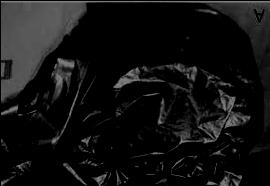Plastic: (1, 1, 262, 185)
